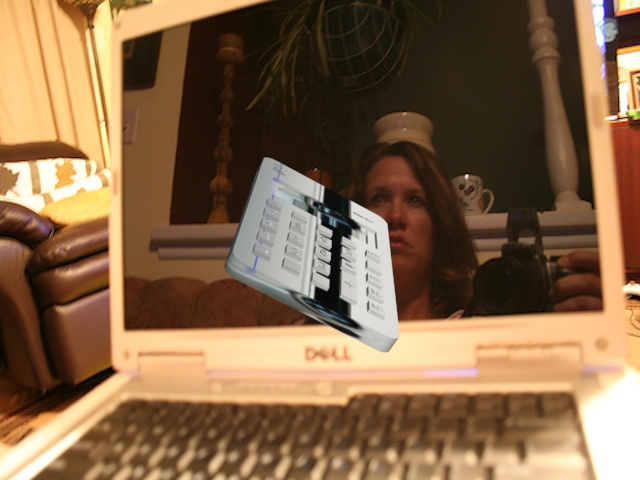calculator: (224, 145, 400, 360)
